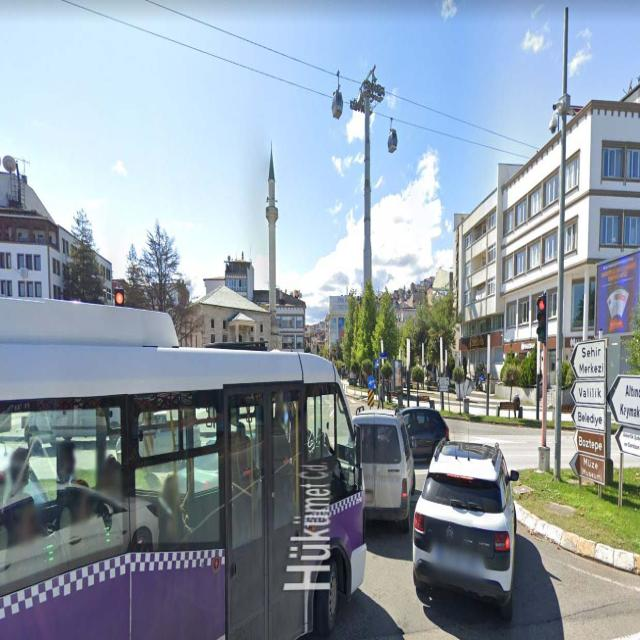kirmizi: (536, 295, 546, 340)
